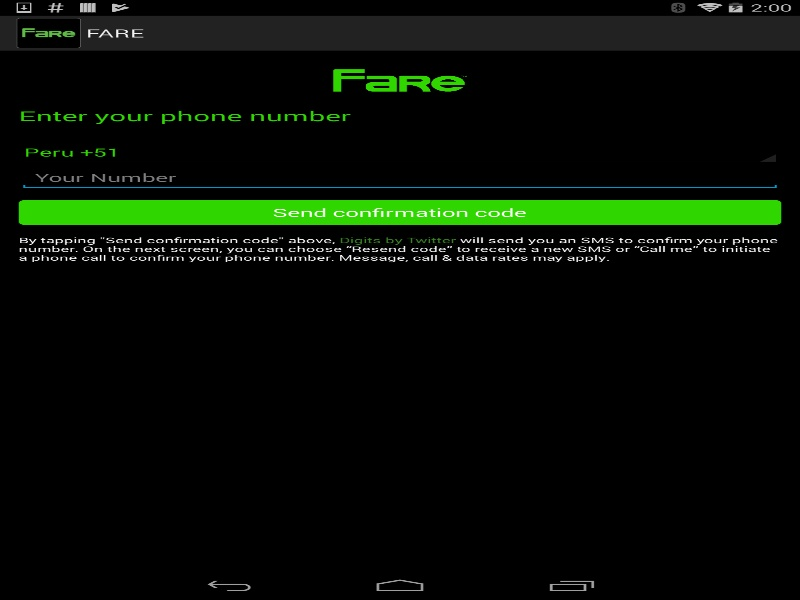Input: (18, 165, 781, 190)
